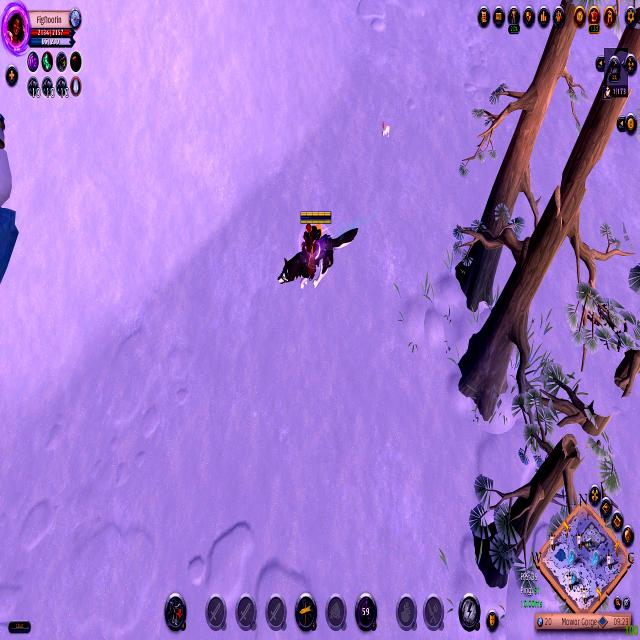red: (272, 209, 361, 294)
